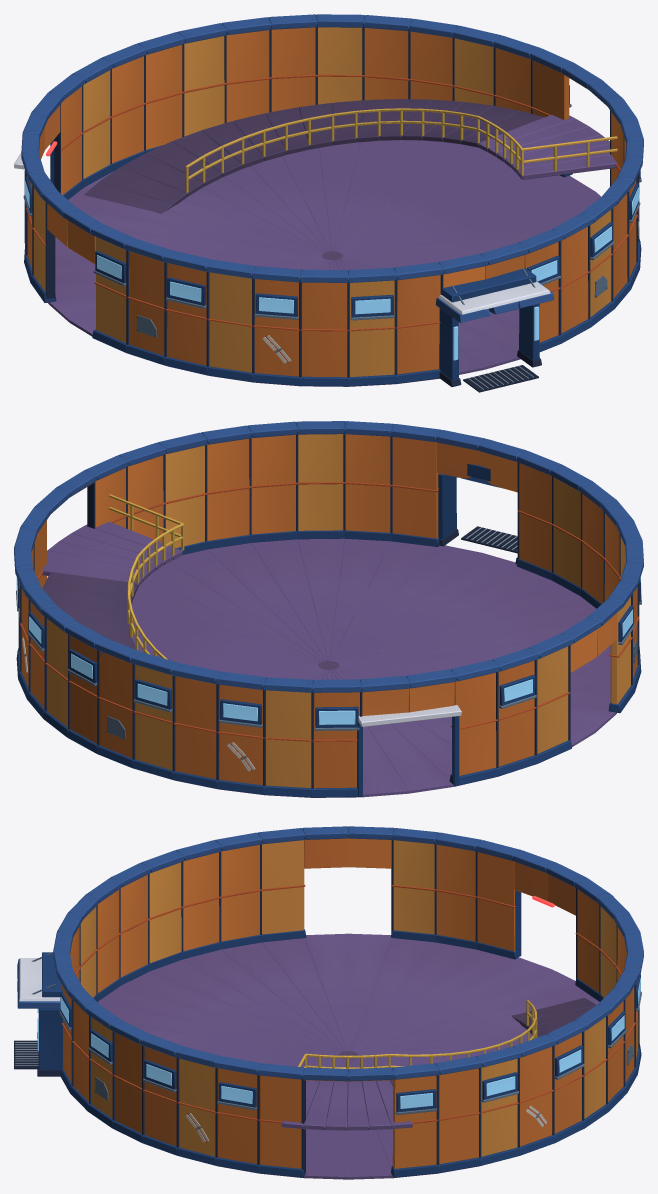
Rendered from observatory_drum.glb.
The picture shows the model from 3 angles, top to bottom: view 1: azimuth 30°, elevation 25°; view 2: azimuth 150°, elevation 25°; view 3: azimuth 270°, elevation 25°; orthographic projection. The views are drawn at different scales.
Parts seen in each view (by area): view 1: observatory_drum; view 2: observatory_drum; view 3: observatory_drum.
Part boxes in pixels (x1,y1,x2,y2): observatory_drum: [14, 14, 643, 392]; observatory_drum: [14, 421, 643, 797]; observatory_drum: [14, 826, 643, 1179].
Bounding box in the file's own units: 23.68 × 4.85 × 25.25.
